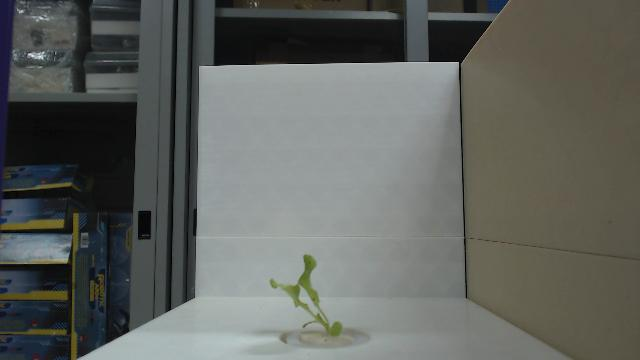Seedling Stage: (267, 252, 347, 340)
